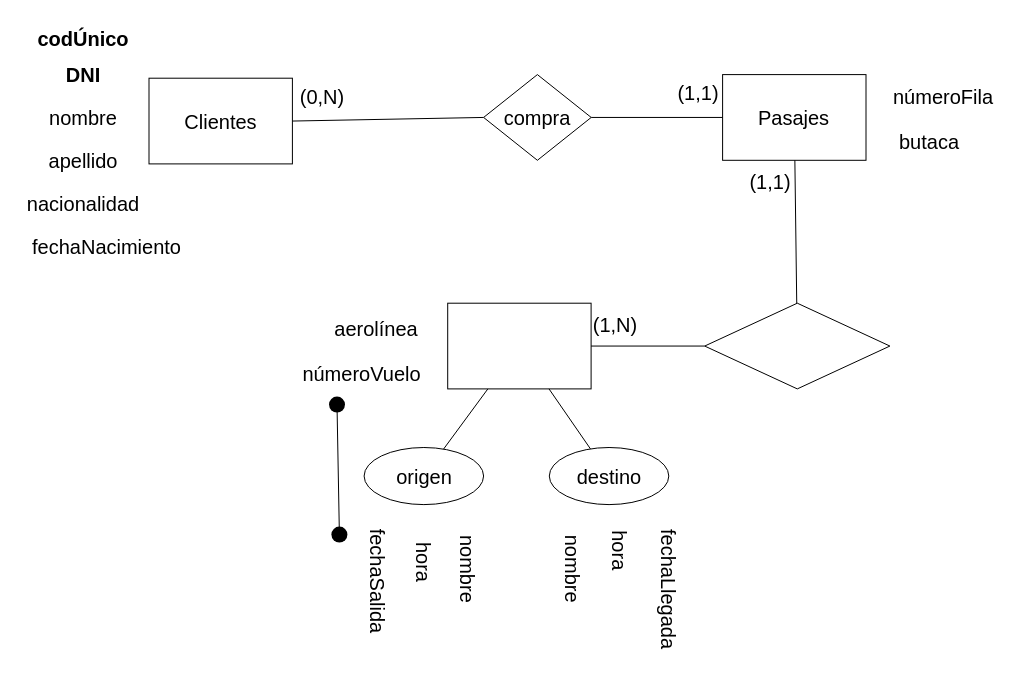
Some shapes in this 1014 by 684 pixel diagram are drawn without their labels. The shapes that lost their labels are listed below. From the top down, each one's centre as x and y in pixels, then its label:
At pixel 519 345: "Vuelos".
At pixel 797 345: "corresponde".
